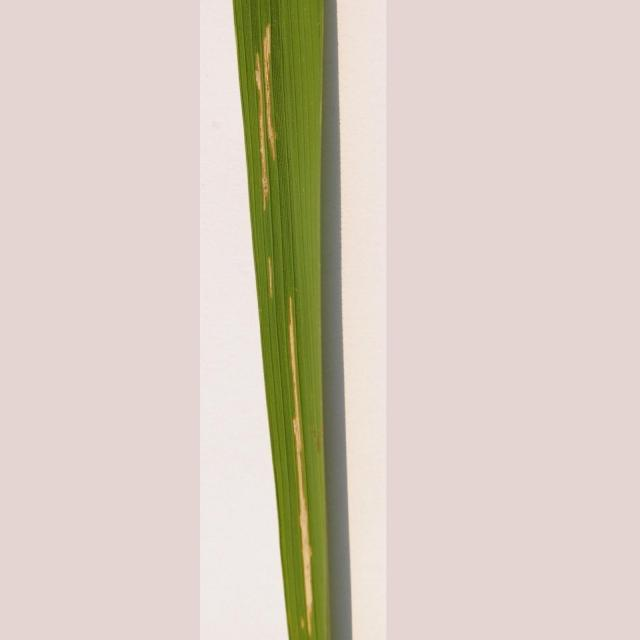leaf blight: (254, 255, 328, 636), (244, 24, 297, 236)
